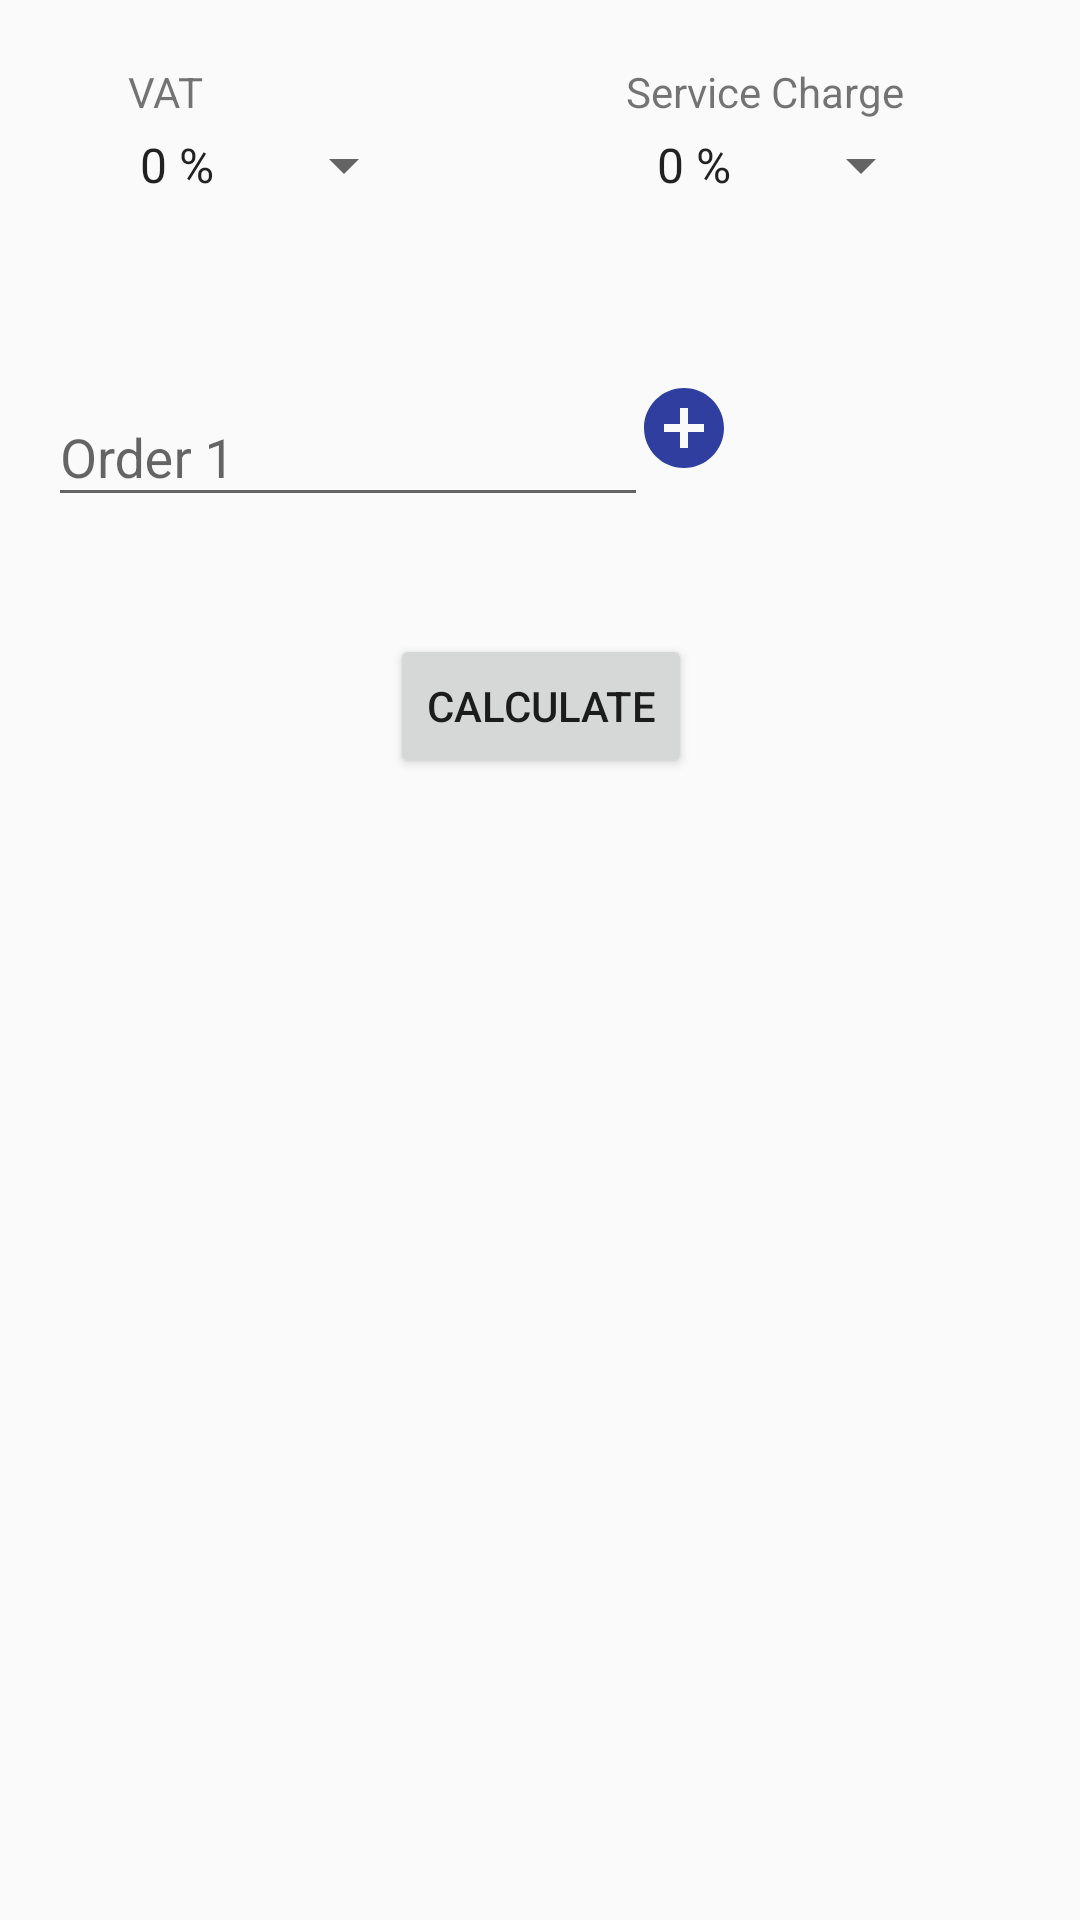

Named icons in this screenshot (1080w x 1920h) and their bounding boxes, (x1, y1, x2, y2):
add circle: (644, 388, 724, 468)
